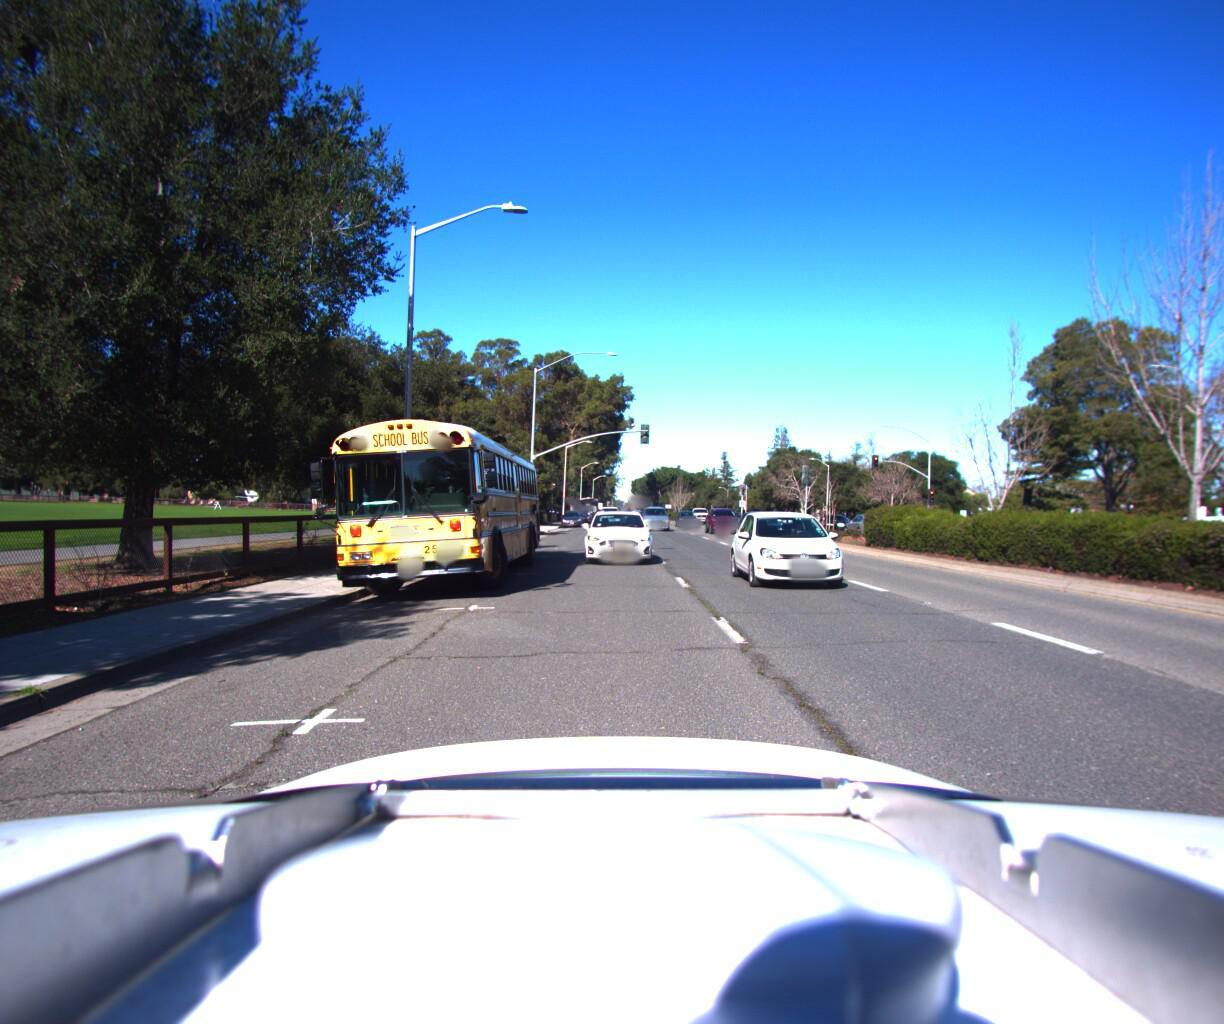bus: (309, 391, 543, 616)
car: (737, 502, 882, 598), (579, 501, 657, 564), (1150, 511, 1224, 558), (703, 503, 747, 532), (640, 501, 676, 528), (598, 503, 621, 525), (676, 507, 703, 525), (559, 506, 583, 525), (689, 503, 714, 521)
